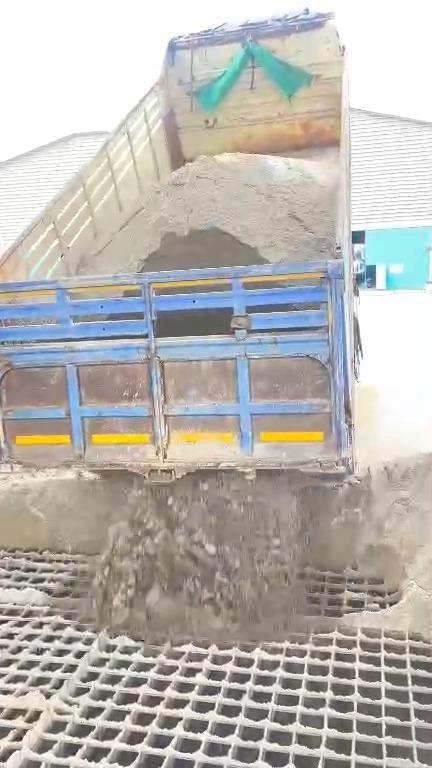sand: (1, 454, 432, 646), (104, 151, 337, 271), (1, 556, 71, 617), (157, 310, 229, 337), (1, 683, 52, 708)
